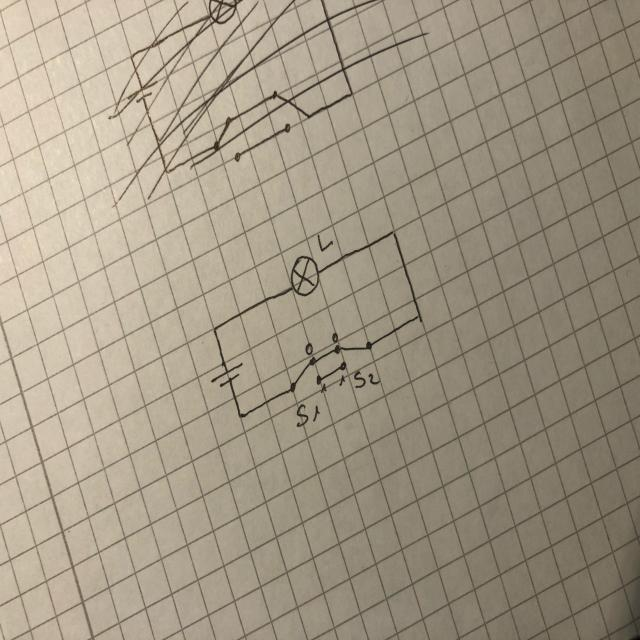junction: (389, 226, 398, 240), (414, 310, 422, 321), (211, 326, 219, 336), (237, 411, 245, 421)
source: (209, 360, 245, 390)
switch: (333, 340, 373, 370), (289, 357, 322, 393)
text: (296, 402, 320, 428), (353, 369, 380, 388), (316, 232, 334, 252), (304, 342, 314, 357), (320, 381, 328, 394), (331, 332, 339, 343), (338, 375, 346, 386)
